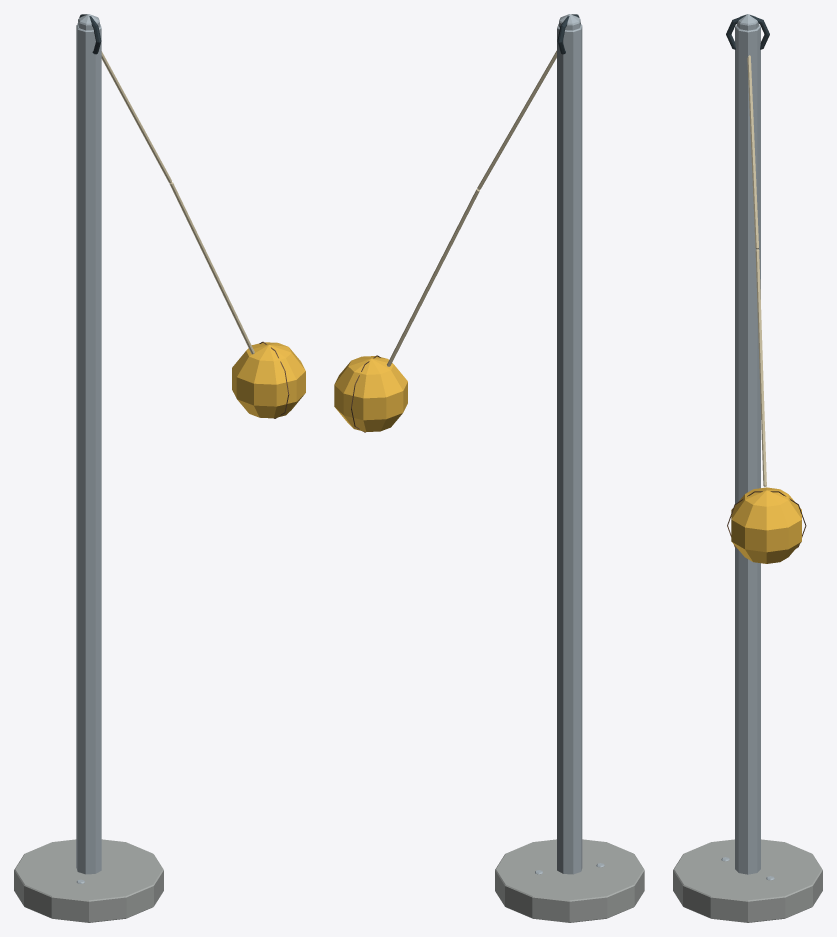
The model's file is b09_tetherball_pole.glb.
The picture shows the model from 3 angles, left to right: view 1: azimuth 30°, elevation 25°; view 2: azimuth 150°, elevation 25°; view 3: azimuth 270°, elevation 25°; orthographic projection.
Parts seen in each view (by area): view 1: b09_tetherball_pole; view 2: b09_tetherball_pole; view 3: b09_tetherball_pole.
Boxes of the visible parts, x1,y1,x2,y2 form: b09_tetherball_pole: (14,14,305,922); b09_tetherball_pole: (334,14,644,922); b09_tetherball_pole: (673,14,822,922).
Size of the model in its own units: 1.06 by 3.1 by 0.48.
